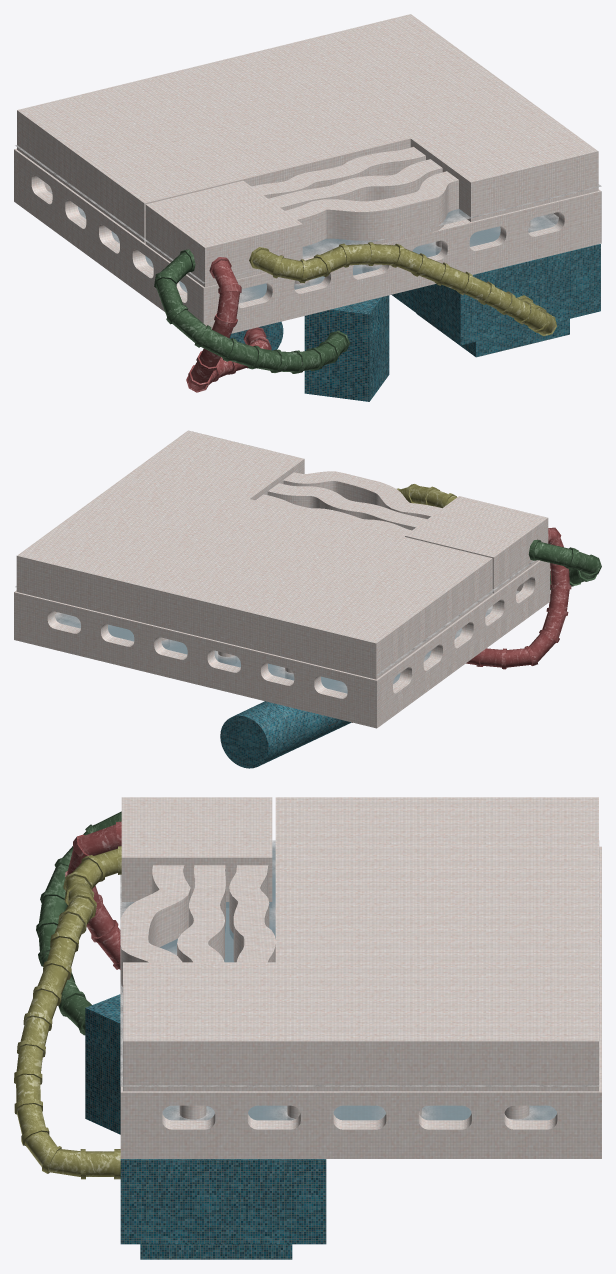
The model's file is Backrooms_Water_LVL_FORMATS.glb.
3 views of the same model, one above another, from view 1: azimuth 30°, elevation 25°; view 2: azimuth 150°, elevation 25°; view 3: azimuth 270°, elevation 25° (orthographic). The views are drawn at different scales.
Parts seen in each view (by area): view 1: Main_White, Main_Blue, Slides, Cube, Cube.001; view 2: Main_White, Slides, Main_Blue, Cube; view 3: Main_White, Main_Blue, Slides, Cube, Cube.001.
Part boxes in pixels (<box>): Main_White: <box>14,14,601,333</box>; Main_Blue: <box>229,244,600,401</box>; Slides: <box>154,242,556,392</box>; Cube: <box>48,190,558,303</box>; Cube.001: <box>15,145,601,283</box>; Main_White: <box>14,430,550,728</box>; Slides: <box>397,484,601,669</box>; Main_Blue: <box>220,701,351,768</box>; Cube: <box>54,591,519,693</box>; Main_White: <box>120,797,601,1158</box>; Main_Blue: <box>85,994,326,1259</box>; Slides: <box>14,811,121,1179</box>; Cube: <box>162,1105,556,1120</box>; Cube.001: <box>120,840,599,1086</box>.
Bounding box in the file's own units: 36.93 × 14.53 × 33.39.
Materials: 11 (9 with a texture image).
